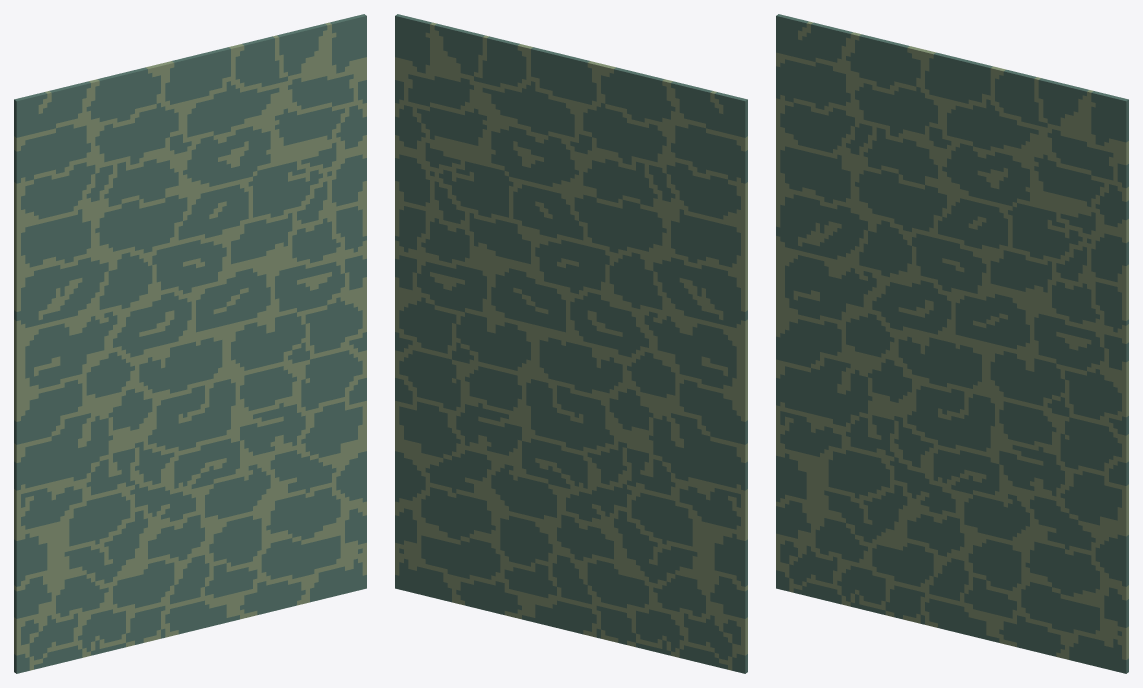
Rendered from paredVerde.obj.
3 views of the same model, side by side, from view 1: azimuth 30°, elevation 25°; view 2: azimuth 150°, elevation 25°; view 3: azimuth 330°, elevation 25° (orthographic).
Bounding box in the file's own units: 8 × 12.5 × 0.1.
1 material, 1 textured.
